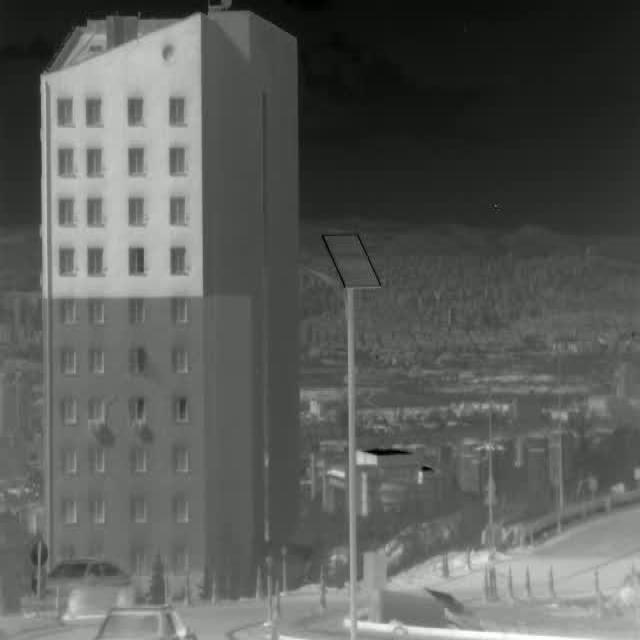Car: (26, 558, 130, 619)
